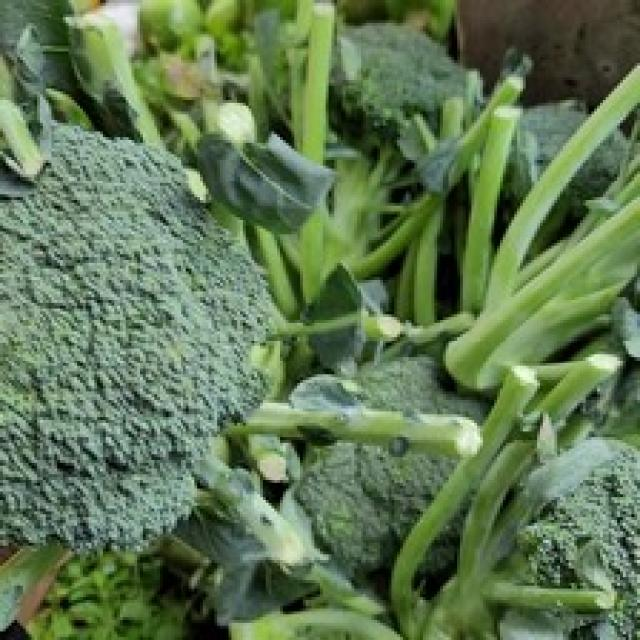Broccoli: (0, 126, 272, 549), (0, 126, 272, 549)
